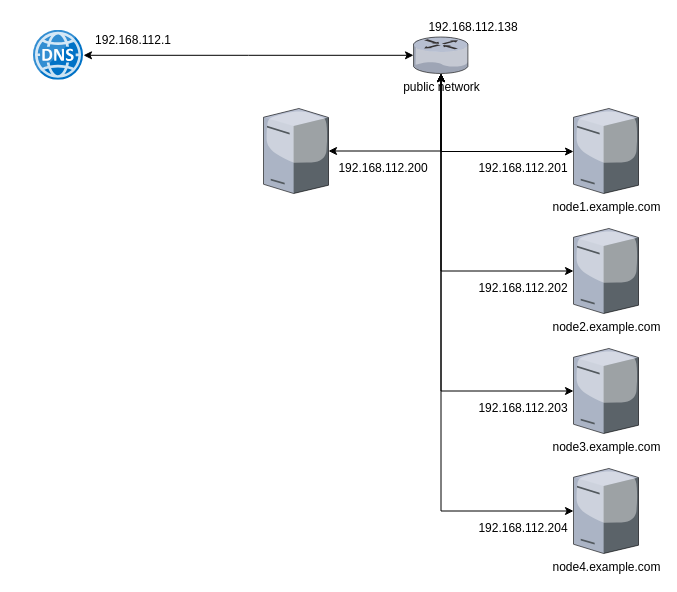
The diagram is 677 pixels wide and 592 high, and some of its shapes have lost their labels. Here are the shapes that lost their labels. From the top down, the centre of each, then its label:
At point 58,55: "Internet Access".
At point 295,150: "controller.example.com".
